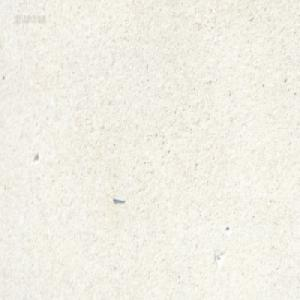Nail: (111, 194, 126, 204)
